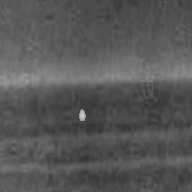Target: (77, 107, 87, 122)
